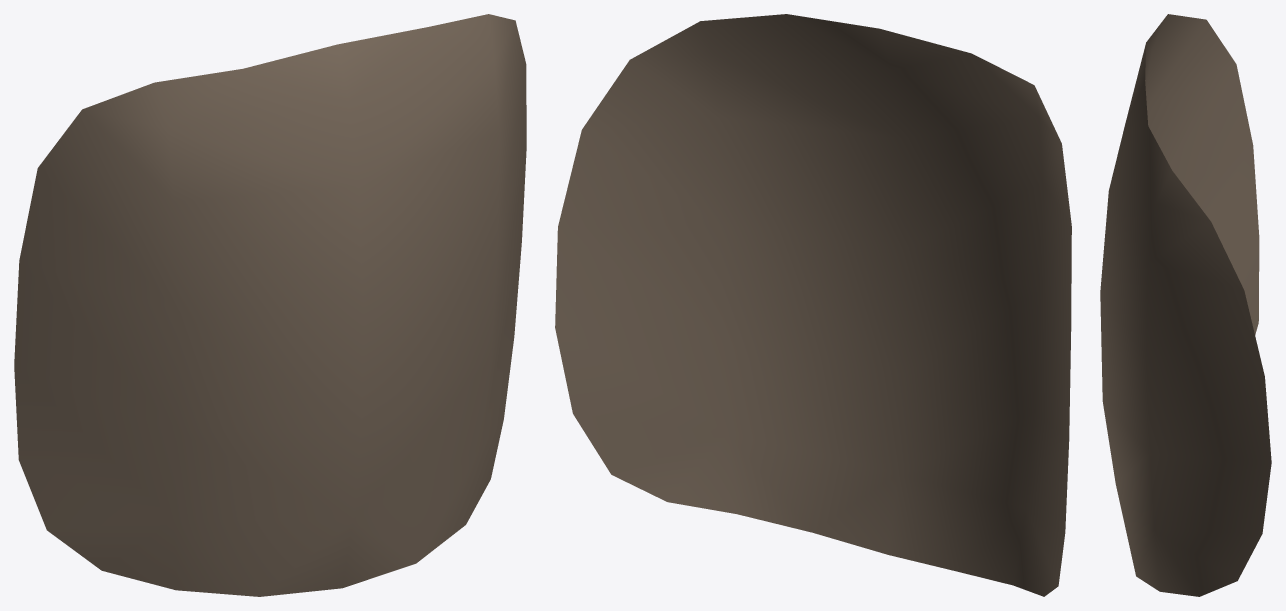
File: MD_nail_FootL.Thumb.fbx
3 views of the same model, side by side, from view 1: azimuth 30°, elevation 25°; view 2: azimuth 150°, elevation 25°; view 3: azimuth 270°, elevation 25° (orthographic). The views are drawn at different scales.
Parts seen in each view (by area): view 1: MD_nail_FootL.Thumb; view 2: MD_nail_FootL.Thumb; view 3: MD_nail_FootL.Thumb.
Boxes of the visible parts, x1,y1,x2,y2 form: MD_nail_FootL.Thumb: (14,14,526,596); MD_nail_FootL.Thumb: (555,14,1071,596); MD_nail_FootL.Thumb: (1100,14,1271,596).
Bounding box in the file's own units: 1.08 × 1.08 × 0.3574.
